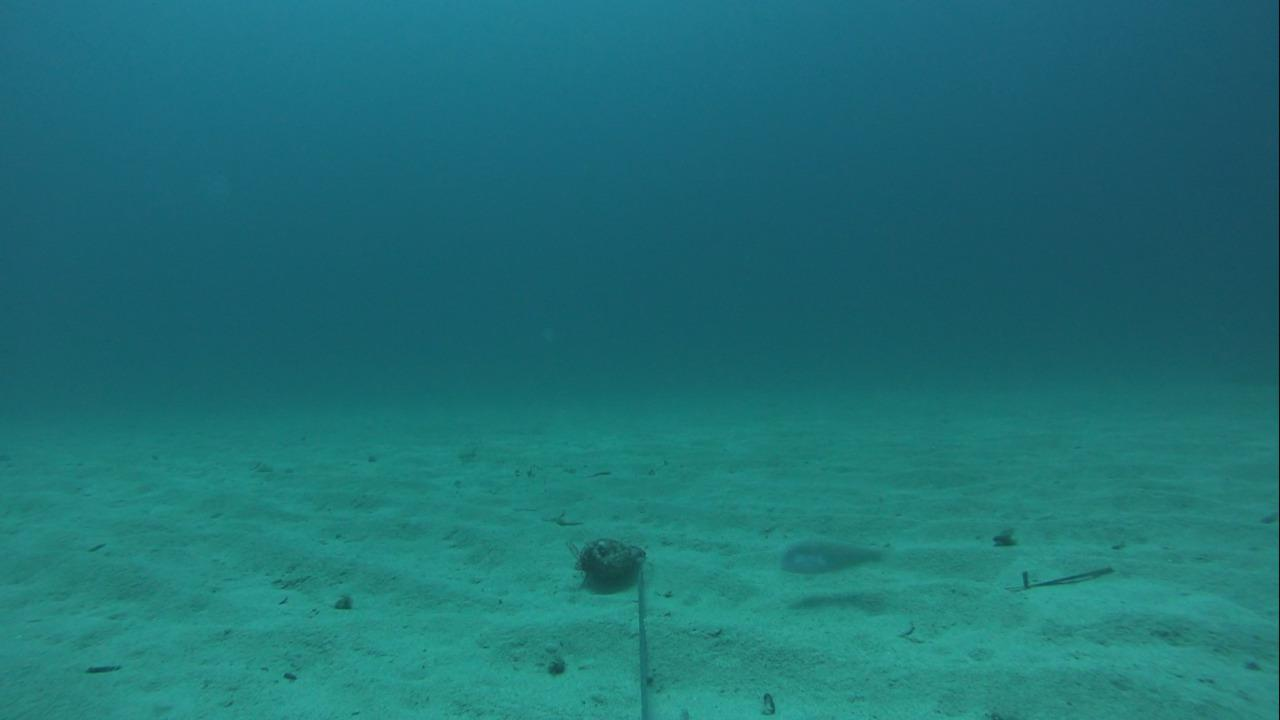raor: (775, 532, 890, 579)
